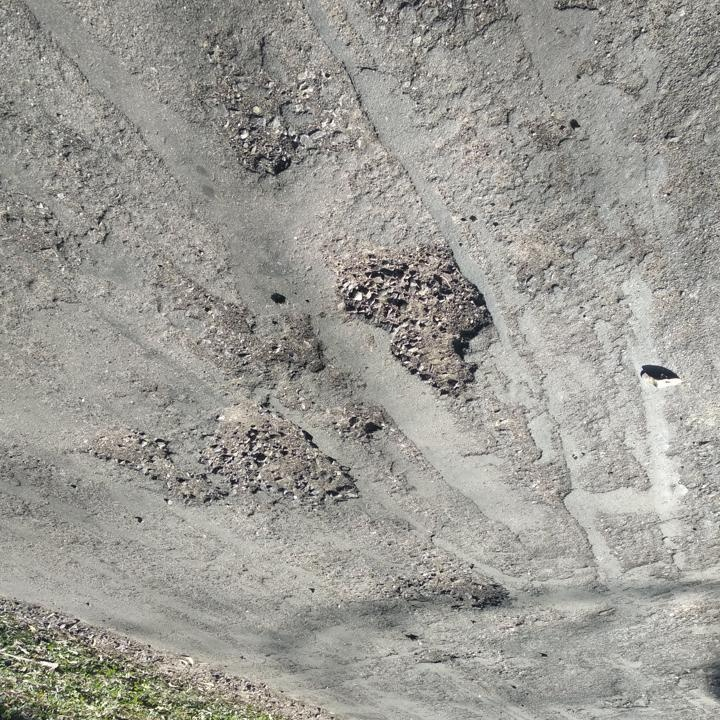pothole: (328, 239, 499, 401), (199, 408, 365, 519), (201, 36, 301, 179), (75, 428, 226, 510), (193, 296, 328, 375), (416, 553, 514, 612), (317, 404, 387, 441)
